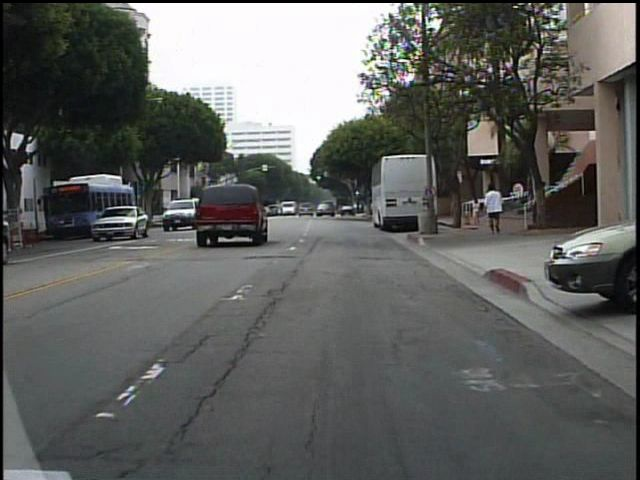person: (485, 181, 509, 237), (469, 195, 482, 228)
